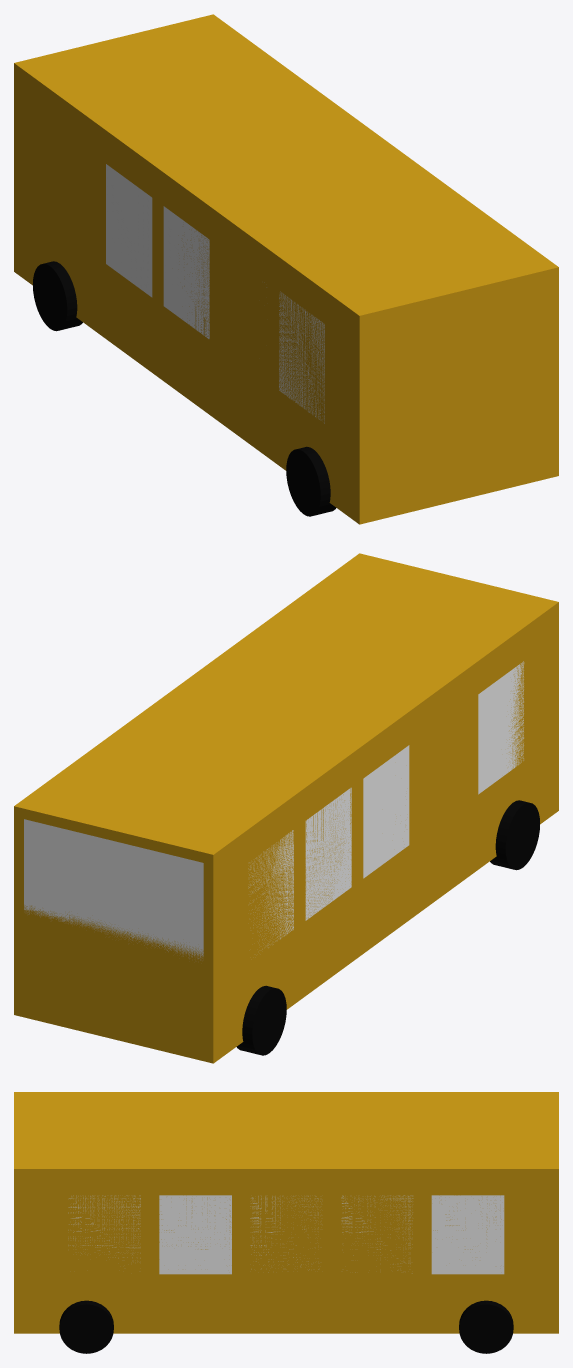
The model's file is YS_Bus.glb.
3 views of the same model, one above another, from view 1: azimuth 30°, elevation 25°; view 2: azimuth 150°, elevation 25°; view 3: azimuth 270°, elevation 25° (orthographic). The views are drawn at different scales.
Visible parts, largest first — view 1: Bus Body, Bus Window.004, Bus Window.003, Bus Window.001, Bus Wheel.002, Bus Wheel.001; view 2: Bus Body, Front Window, Bus Window.003, Bus Window.004, Bus Window.001, Bus Wheel.001, Bus Wheel.002, Bus Window.005; view 3: Bus Body, Bus Window, Bus Window.007, Bus Wheel.003, Bus Wheel, Bus Window.006, Bus Window.009, Bus Window.008.
Part boxes in pixels (<box>): Bus Body: <box>14,14,558,524</box>; Bus Window.004: <box>106,164,152,297</box>; Bus Window.003: <box>163,206,209,338</box>; Bus Window.001: <box>279,291,324,423</box>; Bus Wheel.002: <box>286,446,336,516</box>; Bus Wheel.001: <box>33,261,82,331</box>; Bus Body: <box>14,553,558,1063</box>; Front Window: <box>24,819,203,960</box>; Bus Window.003: <box>363,745,409,878</box>; Bus Window.004: <box>305,787,351,920</box>; Bus Window.001: <box>478,661,524,794</box>; Bus Wheel.001: <box>236,985,286,1055</box>; Bus Wheel.002: <box>490,800,539,870</box>; Bus Window.005: <box>248,830,293,949</box>; Bus Body: <box>14,1092,558,1333</box>; Bus Window: <box>431,1195,504,1274</box>; Bus Window.007: <box>159,1195,231,1274</box>; Bus Wheel.003: <box>459,1300,513,1353</box>; Bus Wheel: <box>59,1300,113,1353</box>; Bus Window.006: <box>68,1195,140,1258</box>; Bus Window.009: <box>341,1195,413,1273</box>; Bus Window.008: <box>250,1196,320,1272</box>.
Bounding box in the file's own units: 2.2 × 2.2 × 6.
